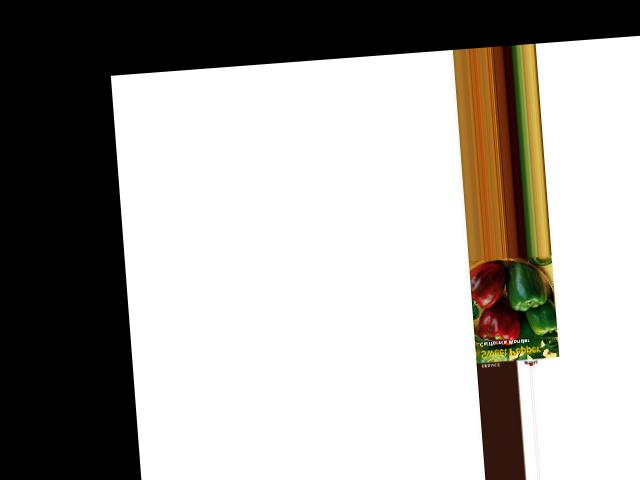bell_pepper: (527, 293, 559, 339)
